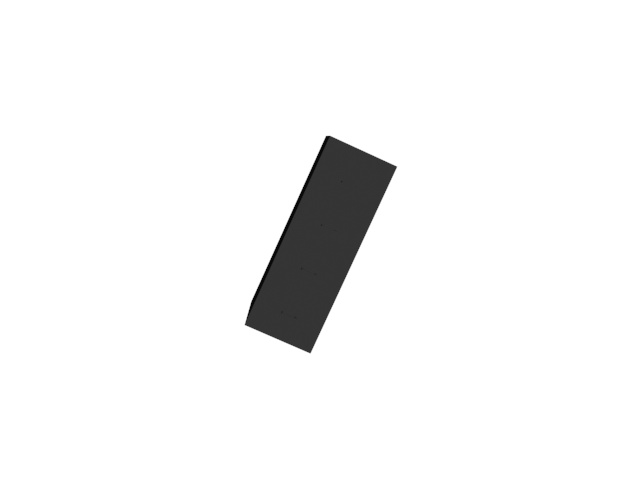file_cabinet: (241, 129, 400, 360)
